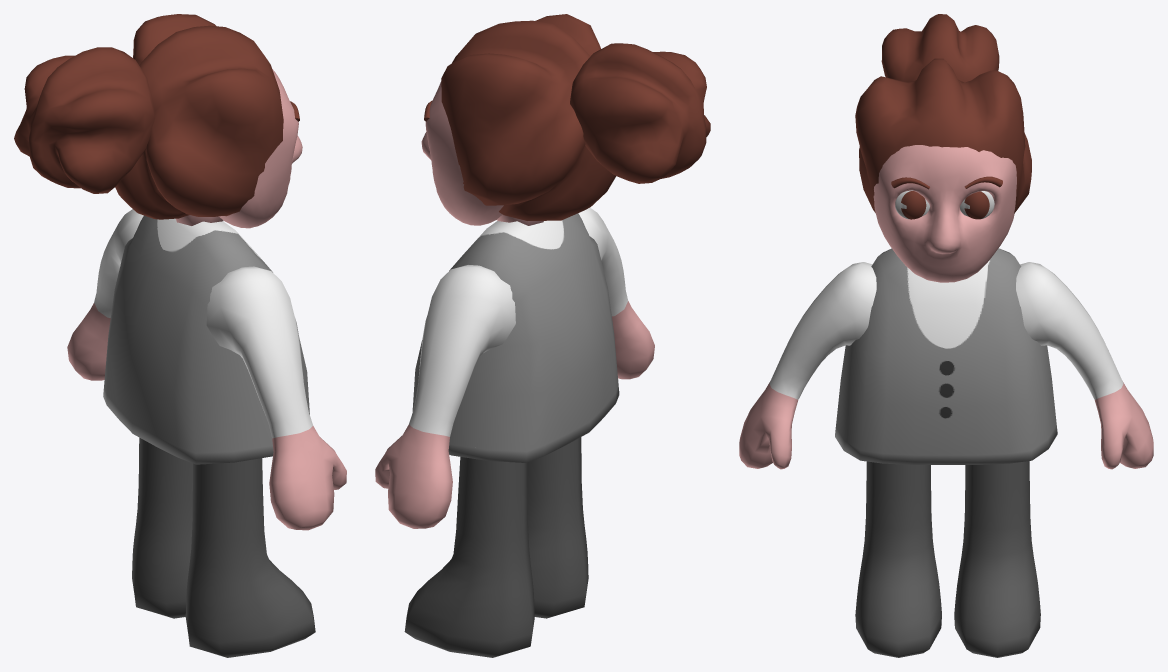
The model's file is OfficeWorker_NoWalky.fbx.
The picture shows the model from 3 angles, left to right: view 1: azimuth 30°, elevation 25°; view 2: azimuth 150°, elevation 25°; view 3: azimuth 270°, elevation 25°; orthographic projection. The views are drawn at different scales.
Parts seen in each view (by area): view 1: OfficeWorker; view 2: OfficeWorker; view 3: OfficeWorker.
Part boxes in pixels (x1,y1,x2,y2): OfficeWorker: [14, 14, 346, 657]; OfficeWorker: [375, 14, 710, 657]; OfficeWorker: [739, 14, 1153, 657].
Size of the model in its own units: 74.74 by 157 by 106.
